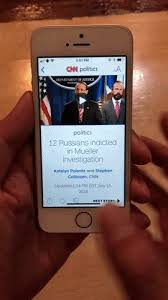iphone: (29, 23, 133, 236)
